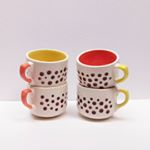cups: (73, 48, 130, 89), (72, 83, 130, 122), (17, 47, 71, 87), (19, 85, 71, 121)
